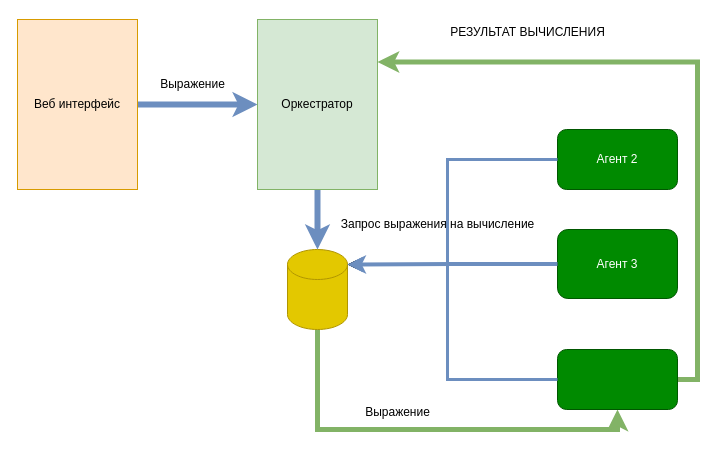
The diagram is 725 pixels wide and 457 high, and some of its shapes have lost their labels. Here are the shapes that lost their labels. From the top down, the box of each, then its label:
(286, 248, 348, 330): Очередь
(556, 348, 678, 410): Агент1
